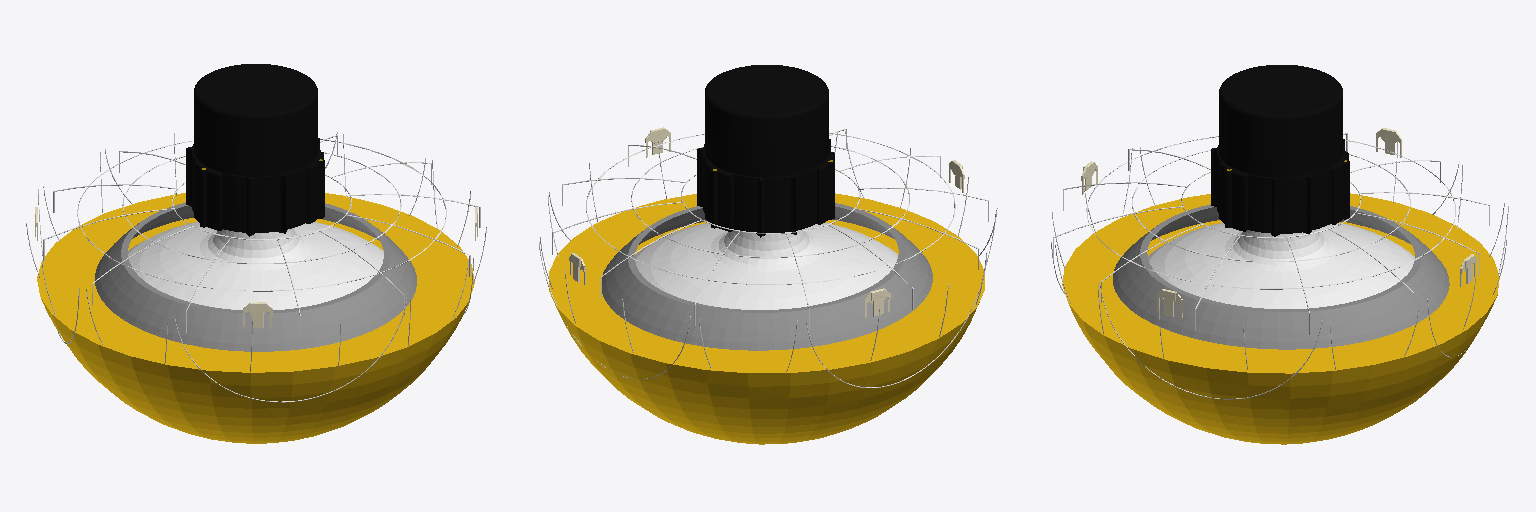
The model's file is s1DOM_Core.obj.
3 views of the same model, side by side, from view 1: azimuth 30°, elevation 25°; view 2: azimuth 150°, elevation 25°; view 3: azimuth 270°, elevation 25° (orthographic).
Parts seen in each view (by area): view 1: Orange_Gell_Fill, inner_bowl_bottom_glass, Inner_Bulb_Mirrored, ChamferCyl001, Cylinder033, ChamferBox097, ChamferBox096, Torus003; view 2: Orange_Gell_Fill, inner_bowl_bottom_glass, Inner_Bulb_Mirrored, ChamferCyl001, Cylinder033, ChamferBox095, ChamferBox097, Torus003; view 3: Orange_Gell_Fill, inner_bowl_bottom_glass, Inner_Bulb_Mirrored, ChamferCyl001, Cylinder033, ChamferBox096, ChamferBox095, Torus003.
Part boxes in pixels (x1,y1,x2,y2): Orange_Gell_Fill: (37,193,474,443); inner_bowl_bottom_glass: (95,202,416,351); Inner_Bulb_Mirrored: (128,222,383,309); ChamferCyl001: (194,64,317,176); Cylinder033: (192,144,320,232); ChamferBox097: (194,161,222,230); ChamferBox096: (306,152,323,223); Torus003: (77,139,446,291); Orange_Gell_Fill: (549,193,984,444); inner_bowl_bottom_glass: (602,203,932,350); Inner_Bulb_Mirrored: (635,223,897,309); ChamferCyl001: (705,65,828,177); Cylinder033: (702,144,830,233); ChamferBox095: (705,162,733,231); ChamferBox097: (817,152,834,224); Torus003: (586,133,955,284); Orange_Gell_Fill: (1062,193,1499,444); inner_bowl_bottom_glass: (1113,204,1449,349); Inner_Bulb_Mirrored: (1148,223,1414,308); ChamferCyl001: (1219,65,1342,177); Cylinder033: (1217,145,1345,233); ChamferBox096: (1219,162,1247,231); ChamferBox095: (1332,152,1348,224); Torus003: (1086,136,1455,289).
Size of the model in its own units: 0.306 by 0.2459 by 0.306.